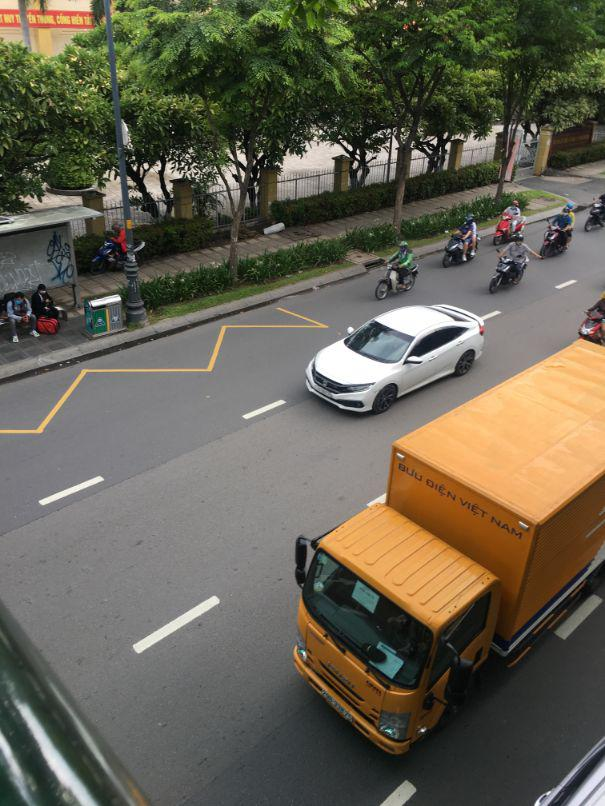car: (306, 305, 496, 417)
motorbike: (489, 239, 531, 293), (376, 248, 420, 298), (443, 220, 480, 266), (539, 211, 574, 259), (92, 235, 132, 272), (578, 292, 604, 344), (584, 198, 605, 232)
truck: (288, 253, 604, 786)
